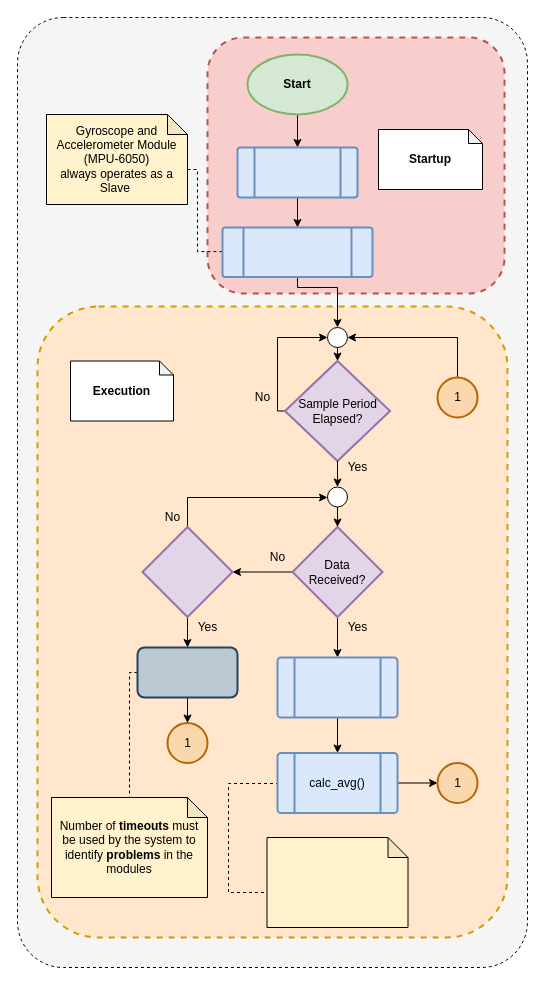
Some shapes in this 545 by 985 pixel diagram are drawn without their labels. The shapes that lost their labels are listed below. From the top down, each one's centre as x and y in pixels, then its label:
(297,172): init_I2C()
(297,252): config_gyro_acc()
(187,572): Timed Out?
(187,672): timeouts++
(337,687): store_value()
(337,882): The remote system performs oversampling with averaging
